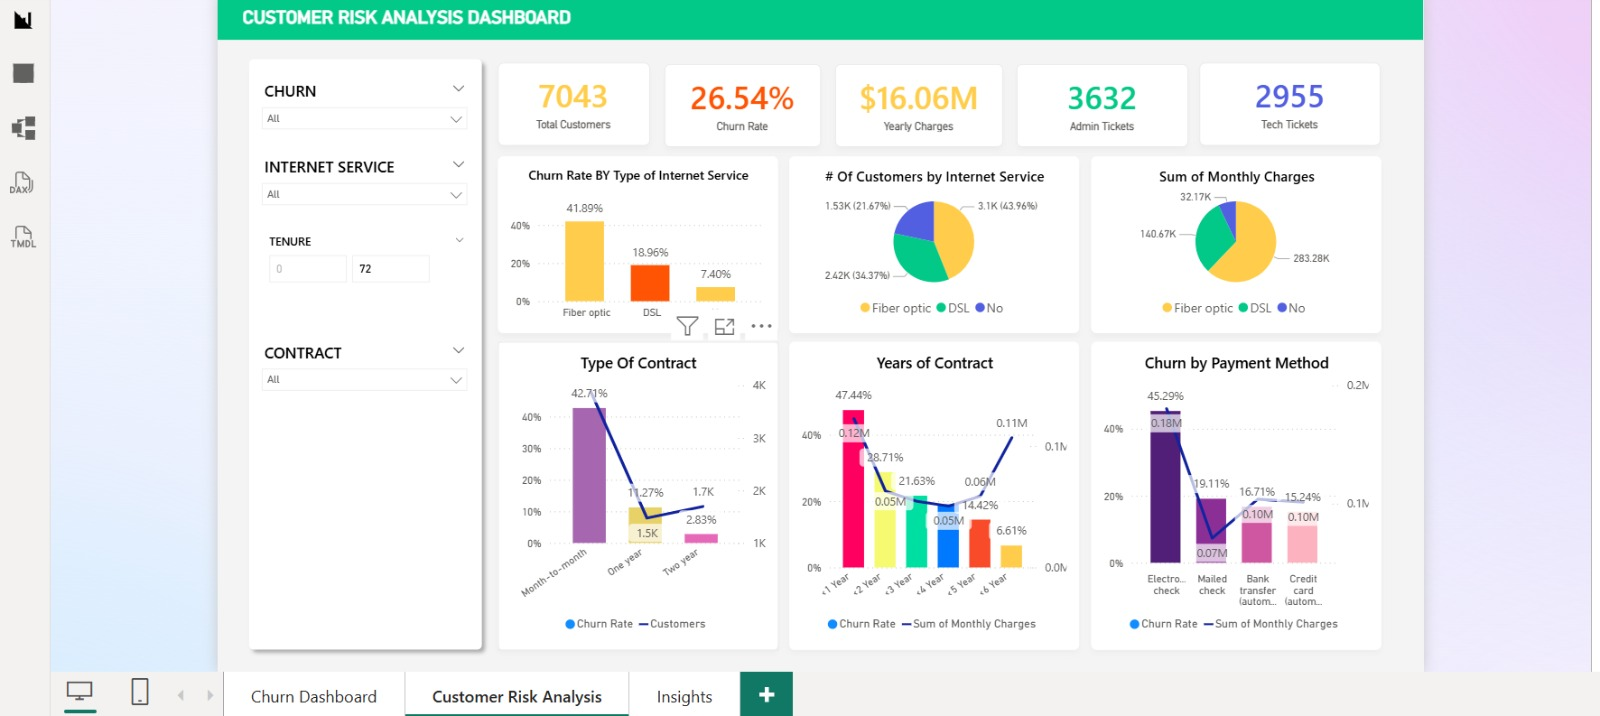

The dashboard page shown, as its layout file describes it:
{"tool":"powerbi","page":{"name":"Customer Risk Analysis","canvas":[1280,720],"ordinal":1},"visuals":[{"type":"shape","box":[0,0,1280,49],"z":0},{"type":"textbox","box":[21,8,438,33],"z":1000},{"type":"shape","box":[25,61,265,645],"z":2000},{"type":"slicer","fields":{"Values":["Churn.Churn"]},"box":[42,82,233,81],"z":3000},{"type":"slicer","fields":{"Values":["Churn.InternetService"]},"box":[42,163,233,81],"z":4000},{"type":"slicer","fields":{"Values":["Churn.tenure"]},"box":[41,244,233,97],"z":5000},{"type":"slicer","fields":{"Values":["Churn.Contract"]},"box":[41,360,233,81],"z":6000},{"type":"card","fields":{"Values":["CountNonNull(01 Churn-Dataset.customerID)"]},"box":[298,74,161,88],"z":7000},{"type":"card","fields":{"Values":["Churn.% Churn Rate"]},"box":[474,75,166,88],"z":8000},{"type":"card","fields":{"Values":["Sum(Churn.TotalCharges)"]},"box":[656,75,178,88],"z":9000},{"type":"card","fields":{"Values":["Sum(Churn.numAdminTickets)"]},"box":[848,75,182,88],"z":10000},{"type":"card","fields":{"Values":["Sum(Churn.numTechTickets)"]},"box":[1043,74,192,88],"z":11000},{"type":"columnChart","title":"Churn Rate BY Type of Internet Service","fields":{"Y":["Churn.% Churn Rate"],"Category":["Churn.InternetService"]},"box":[298,172,297,188],"z":12000},{"type":"pieChart","title":"# Of Customers by Internet Service","fields":{"Y":["CountNonNull(Churn.customerID)"],"Category":["Churn.InternetService"]},"box":[607,172,308,188],"z":13000},{"type":"pieChart","title":"Sum of Monthly Charges","fields":{"Category":["Churn.InternetService"],"Y":["Sum(Churn.MonthlyCharges)"]},"box":[927,172,308,188],"z":14000},{"type":"lineStackedColumnComboChart","title":"Type Of Contract","fields":{"Y2":["CountNonNull(Churn.customerID)"],"Y":["Churn.% Churn Rate"],"Category":["Churn.Contract"]},"box":[298,370,297,327],"z":15000},{"type":"lineStackedColumnComboChart","title":"Years of Contract","fields":{"Y":["Churn.% Churn Rate"],"Y2":["Sum(Churn.MonthlyCharges)"],"Category":["Churn.Tenure(in years)"]},"box":[607,370,308,327],"z":16000},{"type":"lineStackedColumnComboChart","title":"Churn by Payment Method","fields":{"Y":["Churn.% Churn Rate"],"Y2":["Sum(Churn.MonthlyCharges)"],"Category":["Churn.PaymentMethod"]},"box":[927,370,308,327],"z":17000}]}

Visuals, with their boxes on the page's 1280x720 design canvas (x1, y1, x2, y2). These are canvas units, not pixel positions in the 1600x716 screenshot, which may show the page scaled, cropped or inside an application window:
shape: <bbox>0, 0, 1280, 49</bbox>
textbox: <bbox>21, 8, 459, 41</bbox>
shape: <bbox>25, 61, 290, 706</bbox>
slicer - Churn.Churn: <bbox>42, 82, 275, 163</bbox>
slicer - Churn.InternetService: <bbox>42, 163, 275, 244</bbox>
slicer - Churn.tenure: <bbox>41, 244, 274, 341</bbox>
slicer - Churn.Contract: <bbox>41, 360, 274, 441</bbox>
card - CountNonNull(01 Churn-Dataset.customerID): <bbox>298, 74, 459, 162</bbox>
card - Churn.% Churn Rate: <bbox>474, 75, 640, 163</bbox>
card - Sum(Churn.TotalCharges): <bbox>656, 75, 834, 163</bbox>
card - Sum(Churn.numAdminTickets): <bbox>848, 75, 1030, 163</bbox>
card - Sum(Churn.numTechTickets): <bbox>1043, 74, 1235, 162</bbox>
"Churn Rate BY Type of Internet Service" columnChart: <bbox>298, 172, 595, 360</bbox>
"# Of Customers by Internet Service" pieChart: <bbox>607, 172, 915, 360</bbox>
"Sum of Monthly Charges" pieChart: <bbox>927, 172, 1235, 360</bbox>
"Type Of Contract" lineStackedColumnComboChart: <bbox>298, 370, 595, 697</bbox>
"Years of Contract" lineStackedColumnComboChart: <bbox>607, 370, 915, 697</bbox>
"Churn by Payment Method" lineStackedColumnComboChart: <bbox>927, 370, 1235, 697</bbox>
